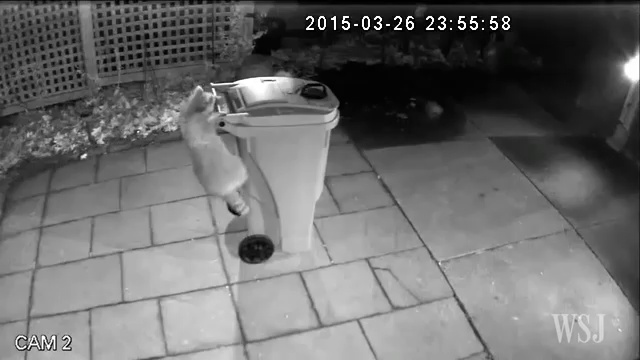raccoon: (174, 83, 260, 219)
